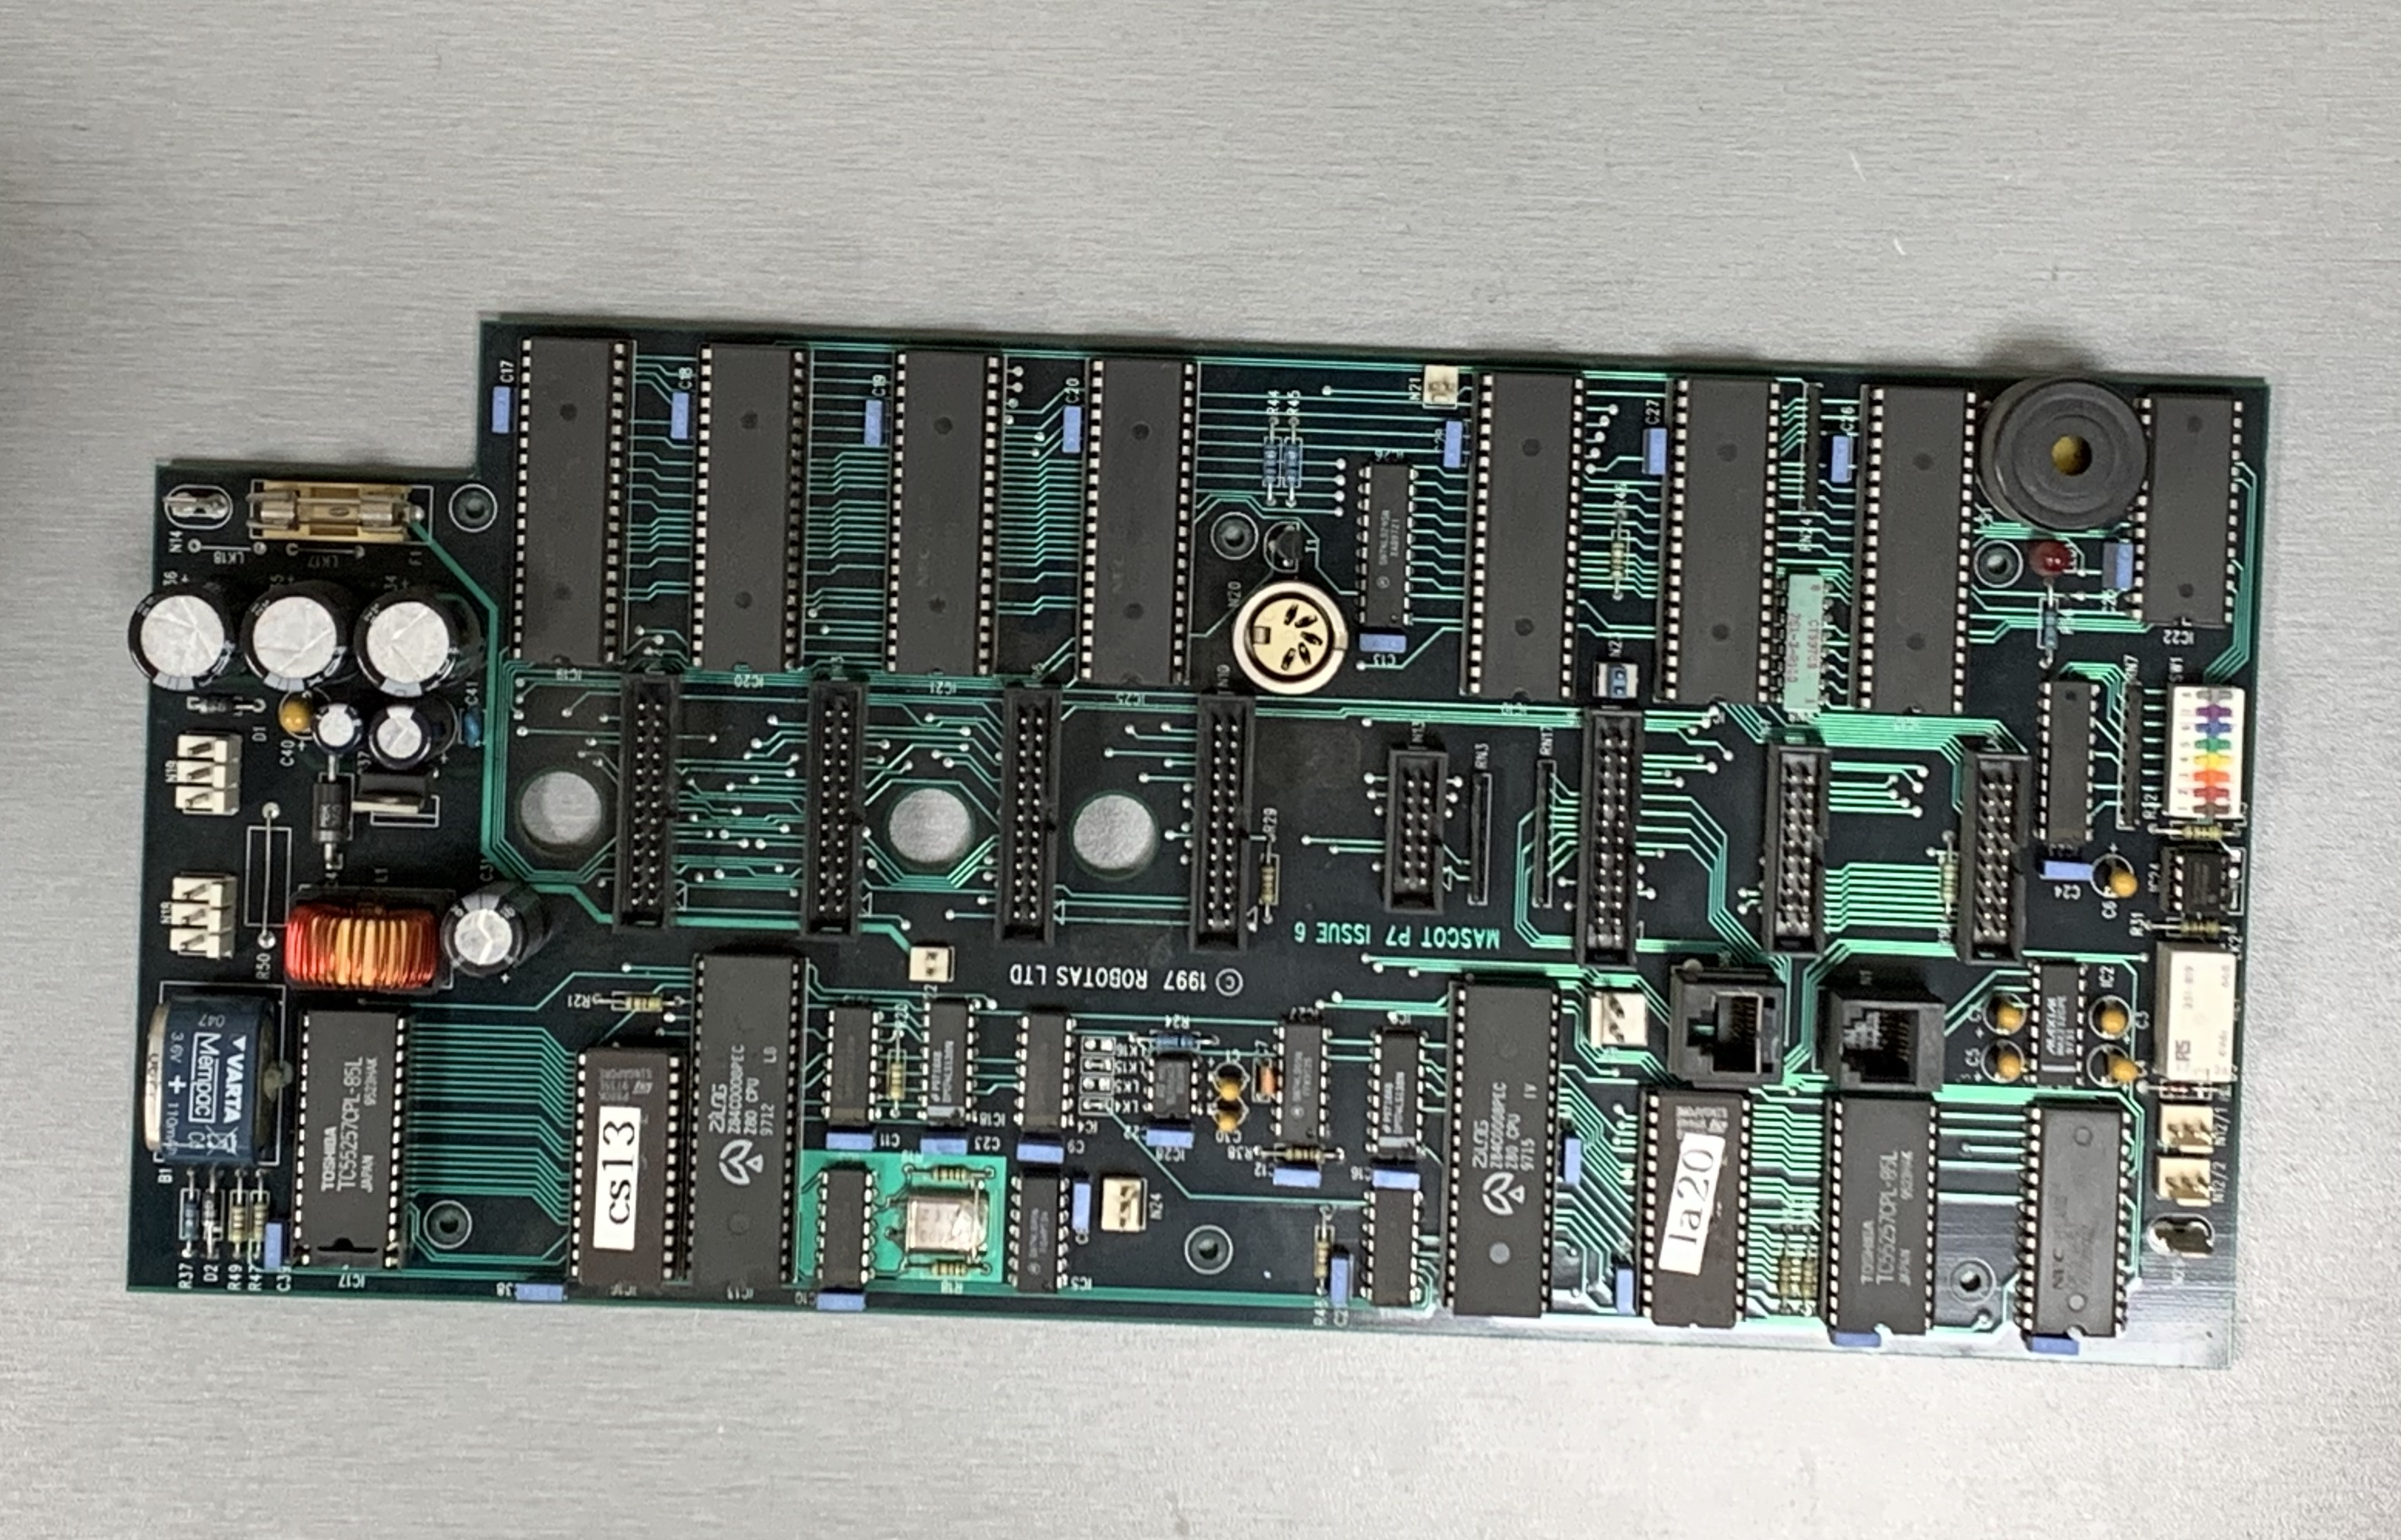Capacitor: (343, 588, 493, 700), (234, 574, 371, 696), (122, 583, 266, 693), (439, 880, 560, 978), (366, 702, 462, 773), (306, 695, 380, 756)
Diode: (304, 777, 348, 849), (199, 1183, 222, 1246)
LED: (2028, 535, 2075, 583)
Resistor: (1255, 437, 1283, 495), (1148, 1027, 1204, 1055), (226, 1193, 252, 1251), (1281, 432, 1305, 493), (2172, 821, 2229, 845), (614, 992, 670, 1017), (177, 1192, 201, 1246), (885, 1055, 910, 1109), (919, 1162, 982, 1183), (1774, 1246, 1797, 1304), (1258, 856, 1281, 912), (2039, 602, 2063, 653), (1606, 535, 1633, 583), (2172, 917, 2226, 940), (1797, 1253, 1820, 1304), (248, 1195, 269, 1249), (920, 1260, 976, 1279), (1314, 1228, 1332, 1284), (1276, 1148, 1332, 1164)
